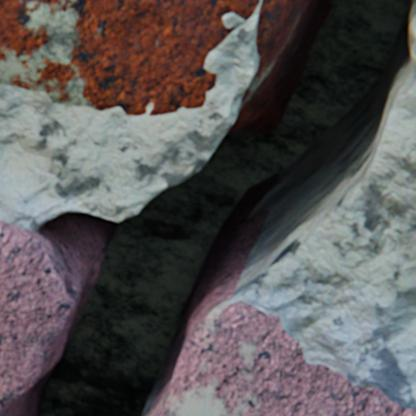brick: (0, 0, 259, 116), (255, 0, 272, 42)
broken_brick: (154, 295, 415, 415), (0, 221, 75, 413)
crack: (0, 0, 415, 415)
